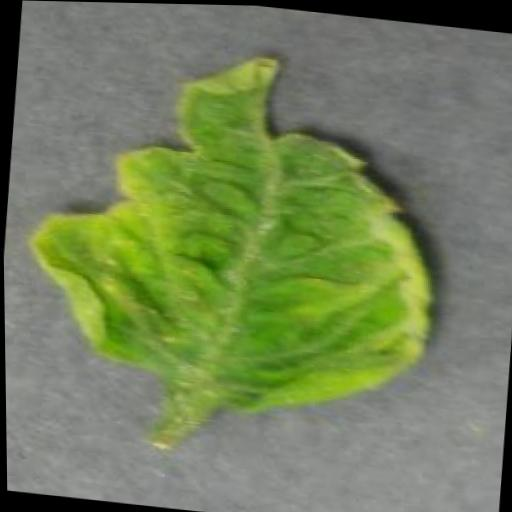Yellow Leaf Curl Virus: (14, 28, 457, 431)
